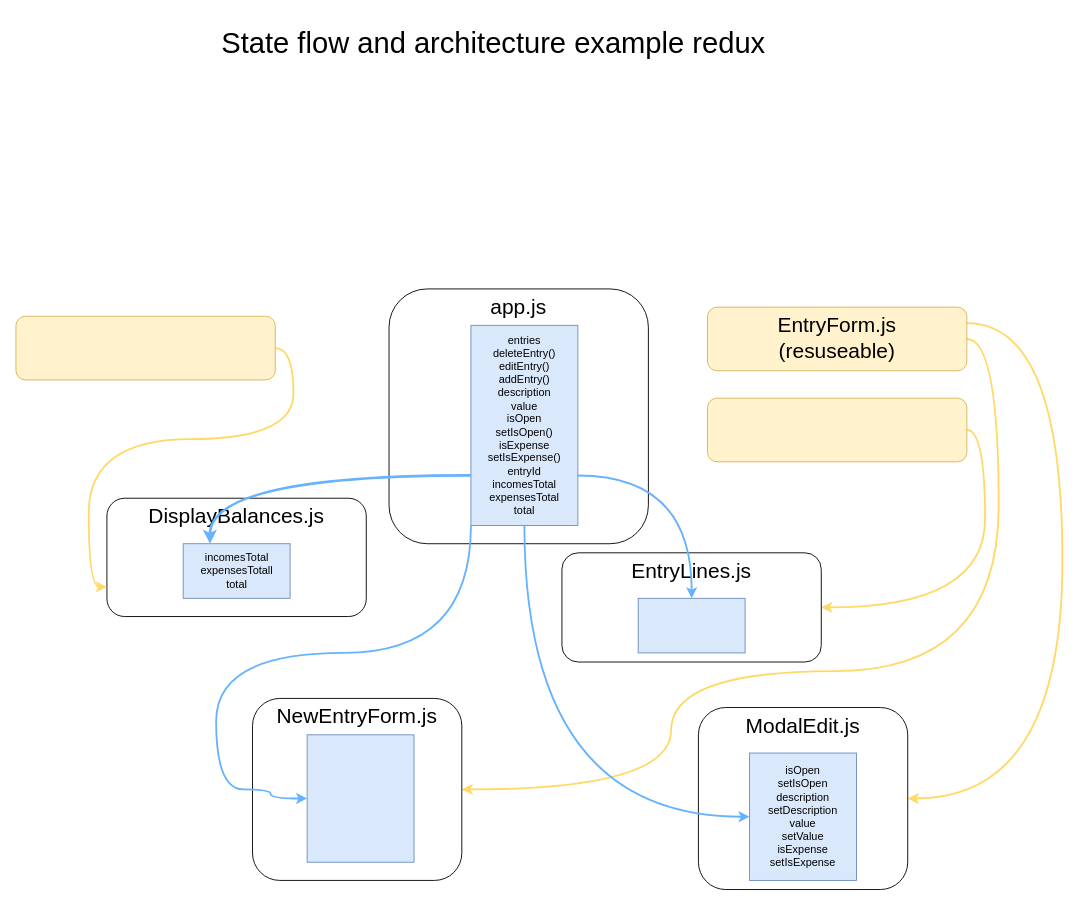
The diagram is 1079 pixels wide and 905 high, and some of its shapes have lost their labels. Each missing label, with the centre of its shape:
"addEntry() description value isExpense setValue setDescription setIsExpense" goes at pixel 360 798.
"DisplayBalance.js (resuseable)" goes at pixel 145 347.
"entries deleteEntry() editEntry()" goes at pixel 691 625.
"EntryLine.js (resuseable)" goes at pixel 837 429.
